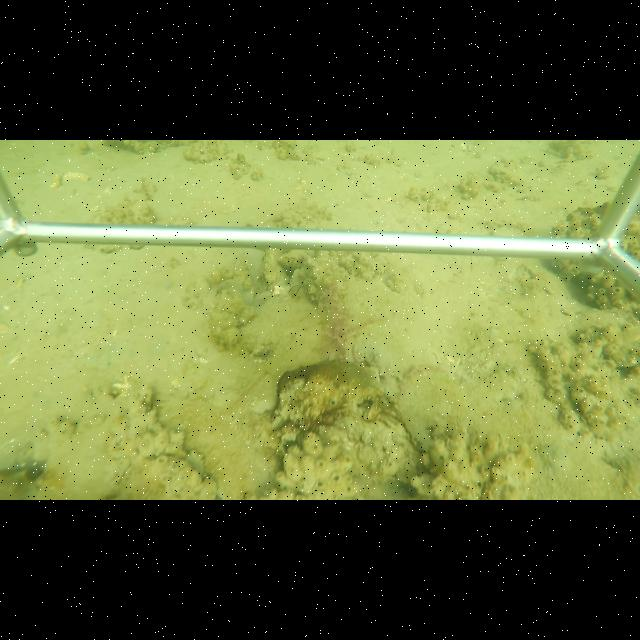Oyster-Closed: (257, 249, 278, 290)
